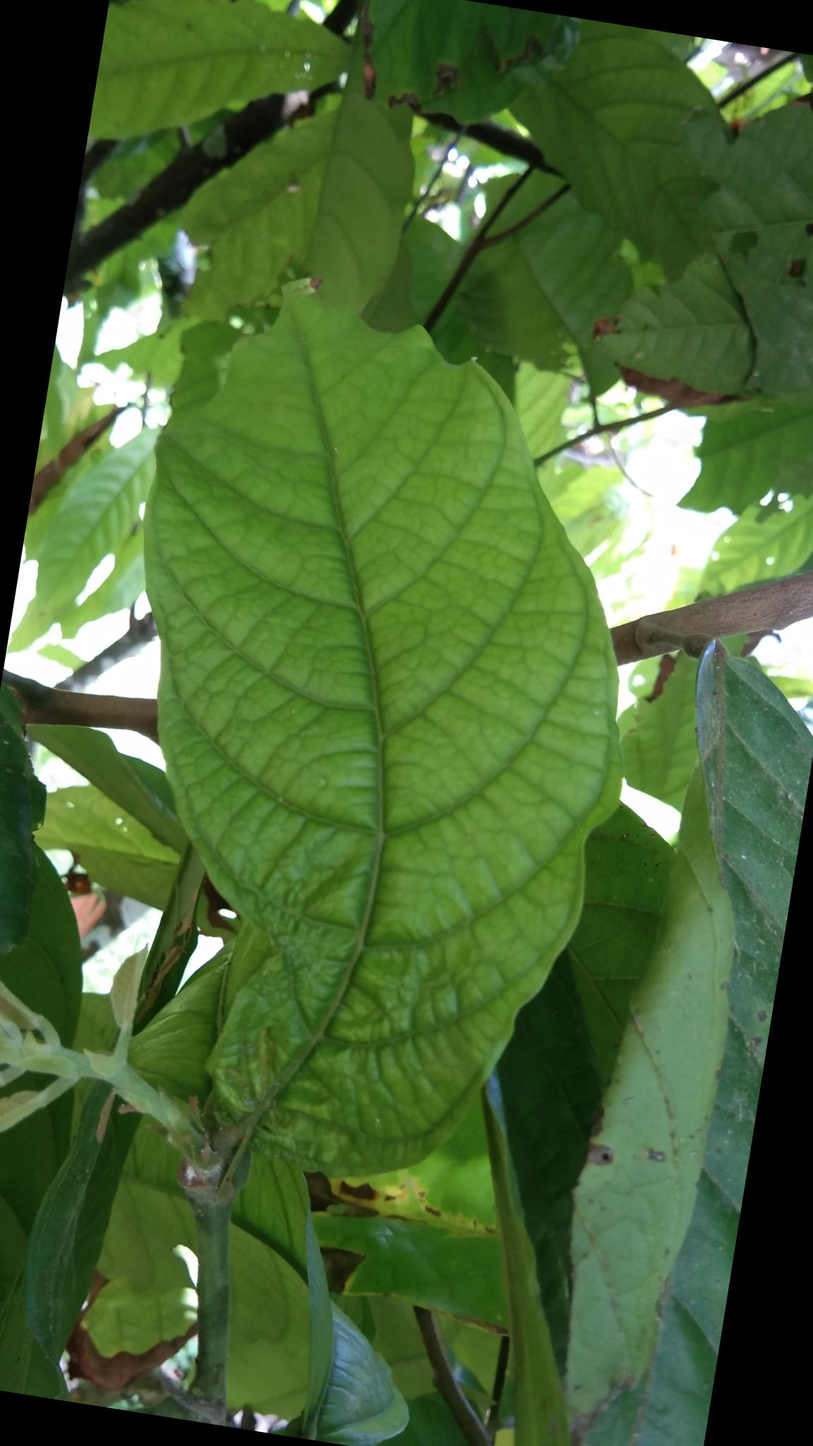Fosforo: (136, 282, 613, 1168)
